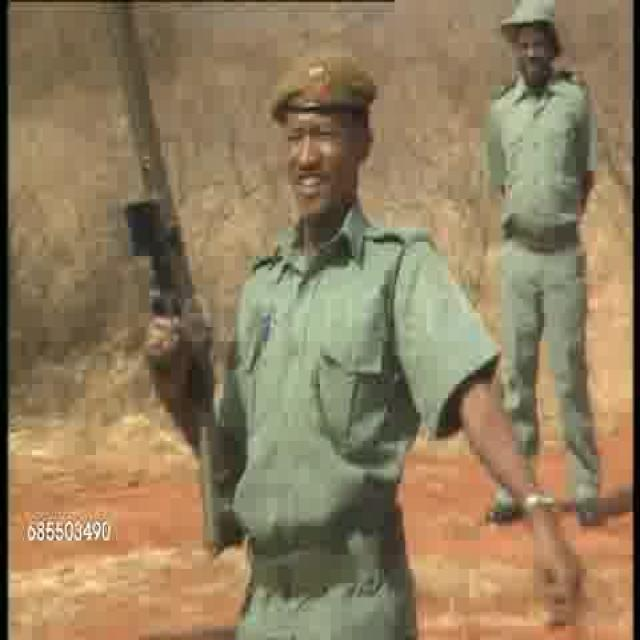Hunter: (481, 2, 607, 523)
Rifle: (100, 2, 233, 540)
